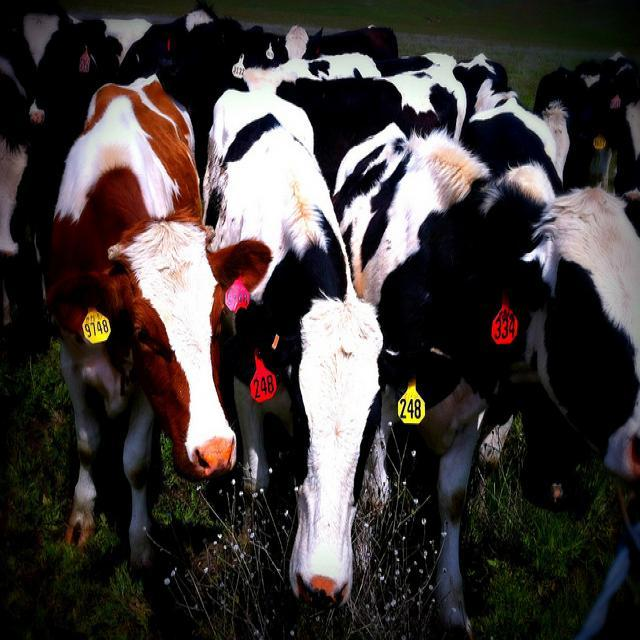cow: (333, 119, 638, 627), (42, 71, 268, 542), (201, 85, 398, 615), (8, 16, 122, 254), (276, 50, 459, 196), (107, 13, 238, 173), (451, 51, 555, 203), (562, 51, 639, 219), (215, 50, 379, 97), (527, 67, 587, 193), (236, 21, 289, 67)
